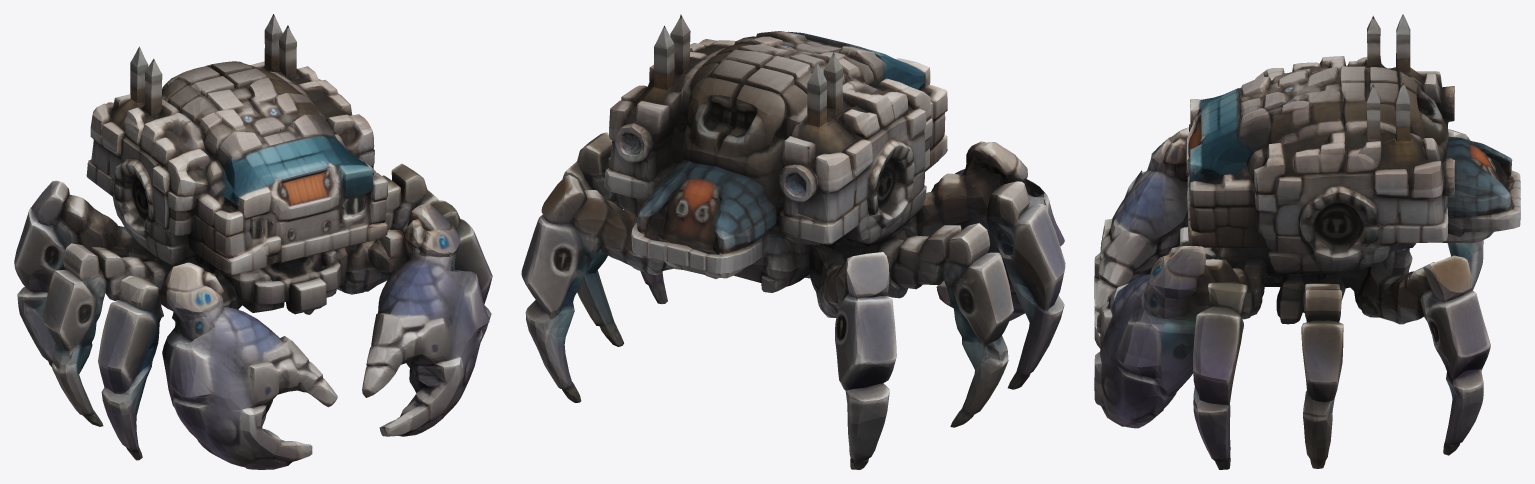
The picture shows the model from 3 angles, left to right: view 1: azimuth 30°, elevation 25°; view 2: azimuth 150°, elevation 25°; view 3: azimuth 270°, elevation 25°; orthographic projection. The views are drawn at different scales.
Parts seen in each view (by area): view 1: world; view 2: world; view 3: world.
Boxes of the visible parts, left/top/right/bottom form: world: left=14, top=14, right=492, bottom=469; world: left=521, top=14, right=1065, bottom=469; world: left=1094, top=14, right=1520, bottom=469.
Size of the model in its own units: 0.9966 by 0.8078 by 0.9062.
1 material, 1 textured.
